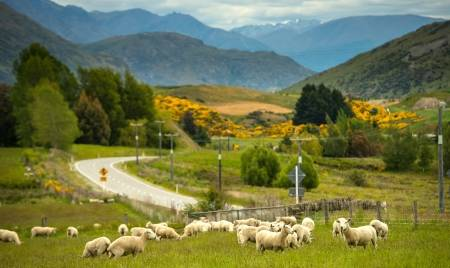sheep: (108, 227, 157, 259), (336, 218, 377, 249), (254, 224, 295, 254), (79, 236, 111, 262), (1, 224, 24, 248), (181, 219, 208, 238), (30, 224, 58, 242), (208, 218, 235, 236), (371, 216, 392, 237), (301, 213, 317, 232), (63, 224, 82, 238), (118, 223, 129, 236), (91, 222, 103, 231)
